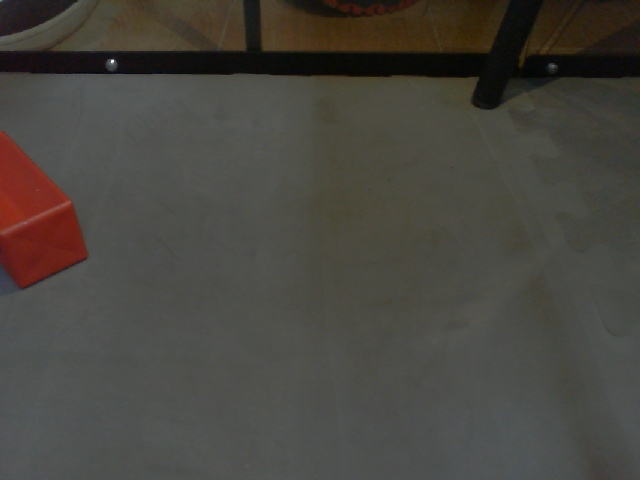RedSample: (1, 120, 101, 294)
